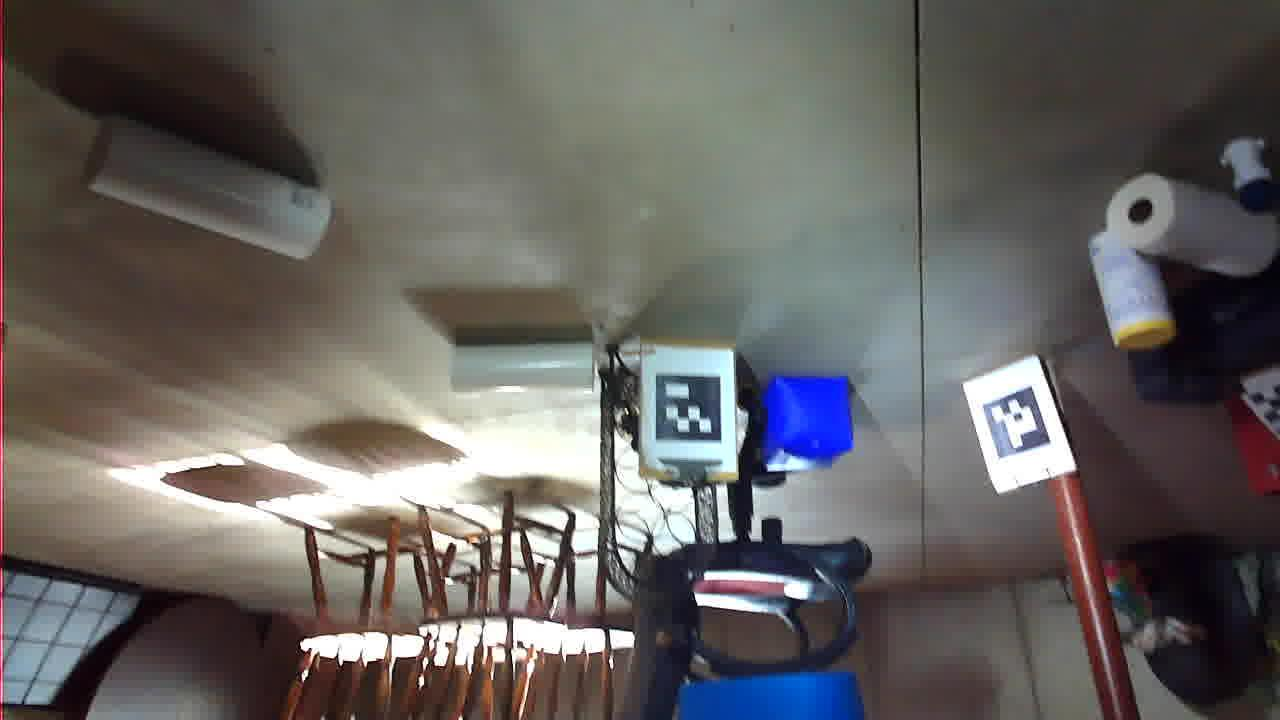coral: (950, 459, 1196, 611), (689, 330, 830, 377)
